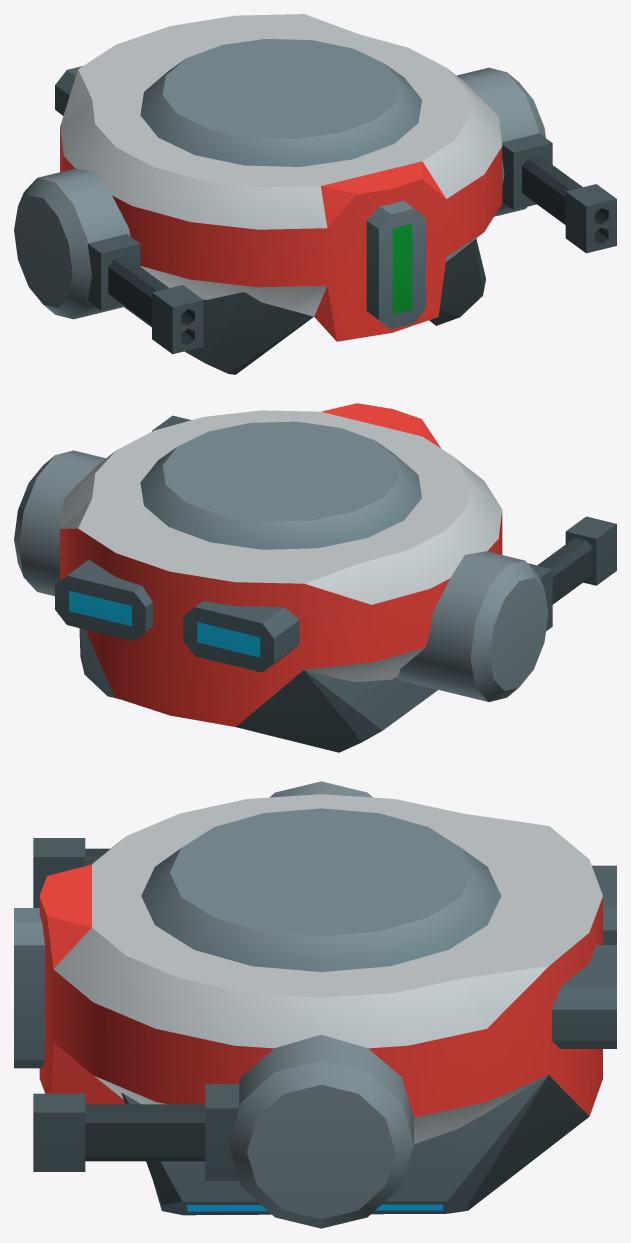
The model's file is Drone_008.glb.
3 views of the same model, one above another, from view 1: azimuth 30°, elevation 25°; view 2: azimuth 150°, elevation 25°; view 3: azimuth 270°, elevation 25° (orthographic). The views are drawn at different scales.
Visible parts, largest first — view 1: Drone_008; view 2: Drone_008; view 3: Drone_008.
Boxes of the visible parts, x1,y1,x2,y2 form: Drone_008: [14, 14, 616, 374]; Drone_008: [14, 403, 616, 752]; Drone_008: [14, 781, 616, 1228].
Bounding box in the file's own units: 0.6383 × 0.284 × 0.5527.
2 materials, 2 textured.
